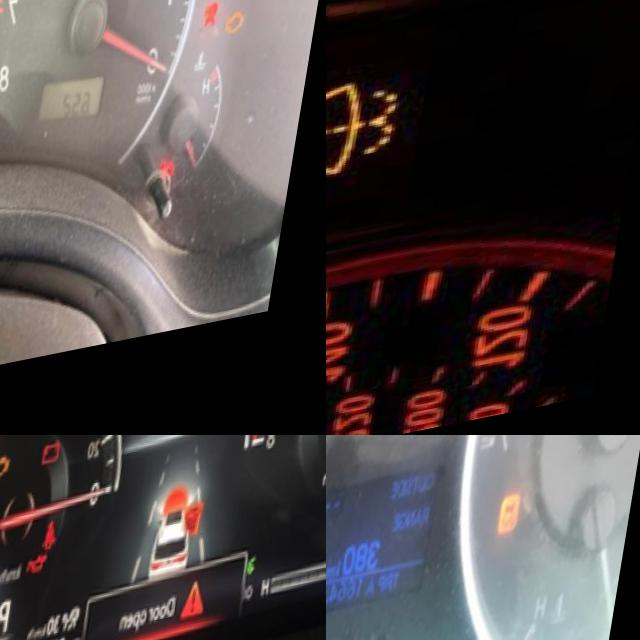Washer Fluid: (326, 88, 411, 202)
